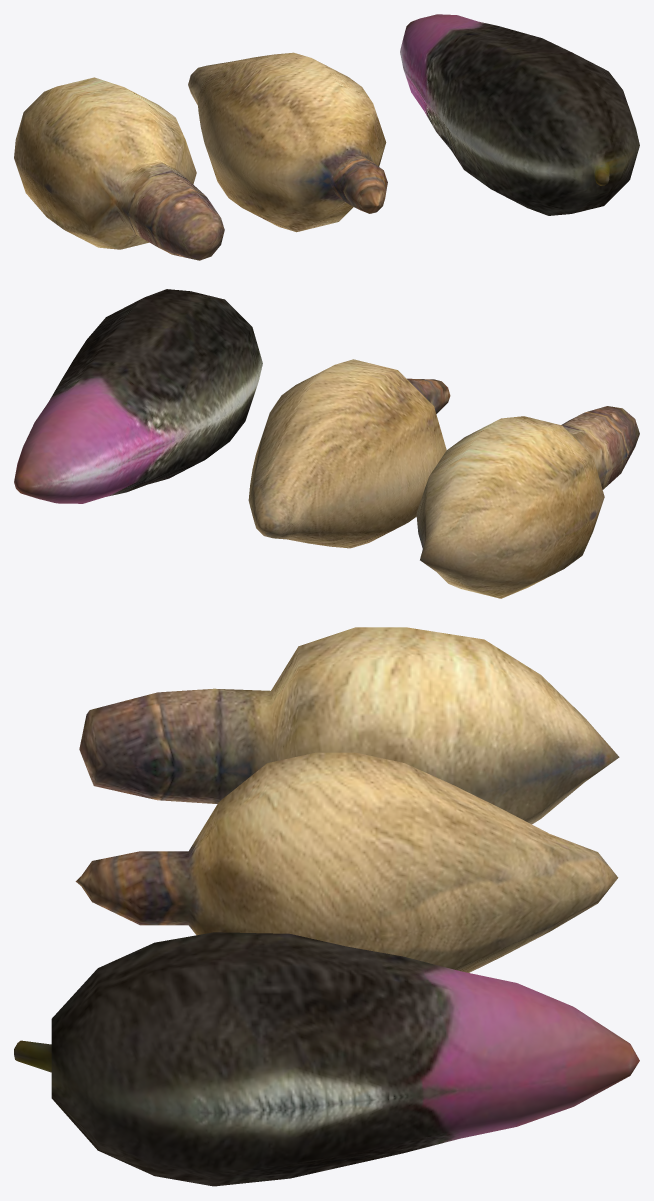
File: xinyi.FBX
The picture shows the model from 3 angles, top to bottom: view 1: azimuth 30°, elevation 25°; view 2: azimuth 150°, elevation 25°; view 3: azimuth 270°, elevation 25°; orthographic projection. The views are drawn at different scales.
Parts seen in each view (by area): view 1: Cylinder003, Cylinder002, Cylinder001; view 2: Cylinder003, Cylinder001, Cylinder002; view 3: Cylinder003, Cylinder002, Cylinder001.
Part boxes in pixels (x1,y1,x2,y2): Cylinder003: (400, 14, 639, 215); Cylinder002: (188, 52, 387, 232); Cylinder001: (14, 77, 224, 260); Cylinder003: (14, 289, 262, 503); Cylinder001: (416, 406, 639, 598); Cylinder002: (248, 359, 450, 548); Cylinder003: (14, 932, 639, 1186); Cylinder002: (75, 752, 618, 972); Cylinder001: (79, 627, 619, 824).
Size of the model in its own units: 16.52 by 4.73 by 11.17.
Materials: 1 (1 with a texture image).
